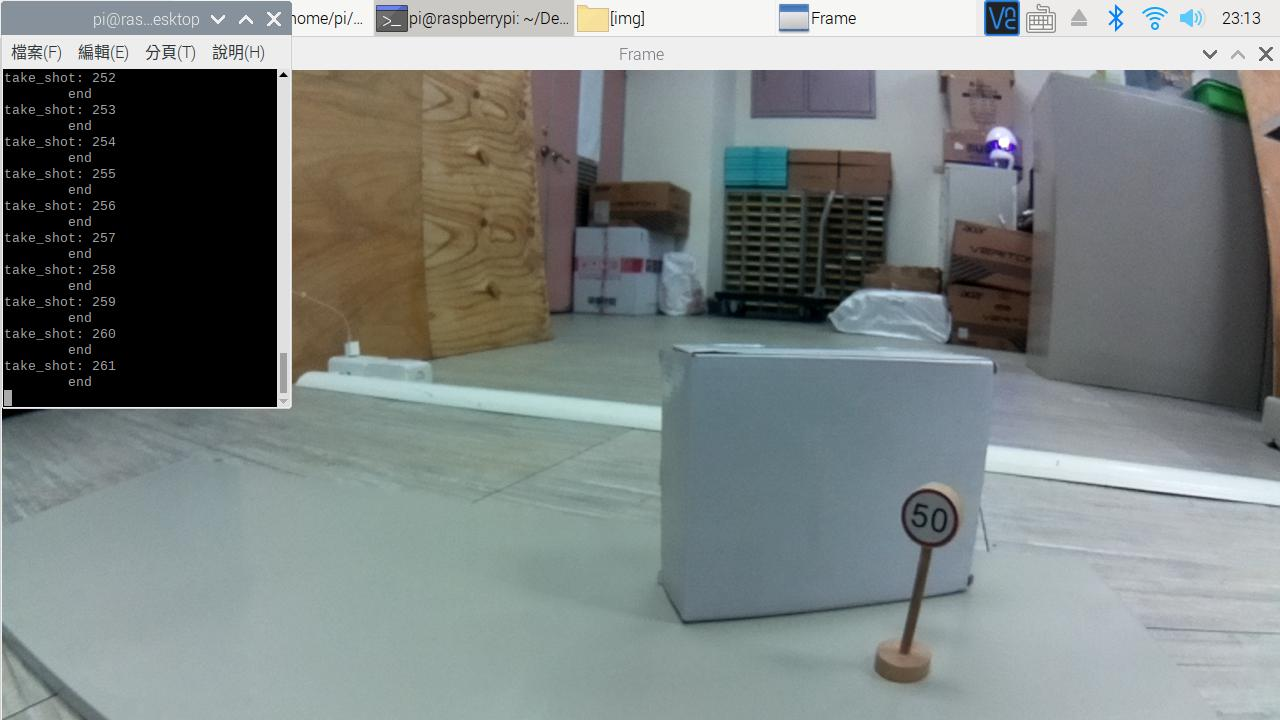Speed50: (896, 472, 974, 560)
